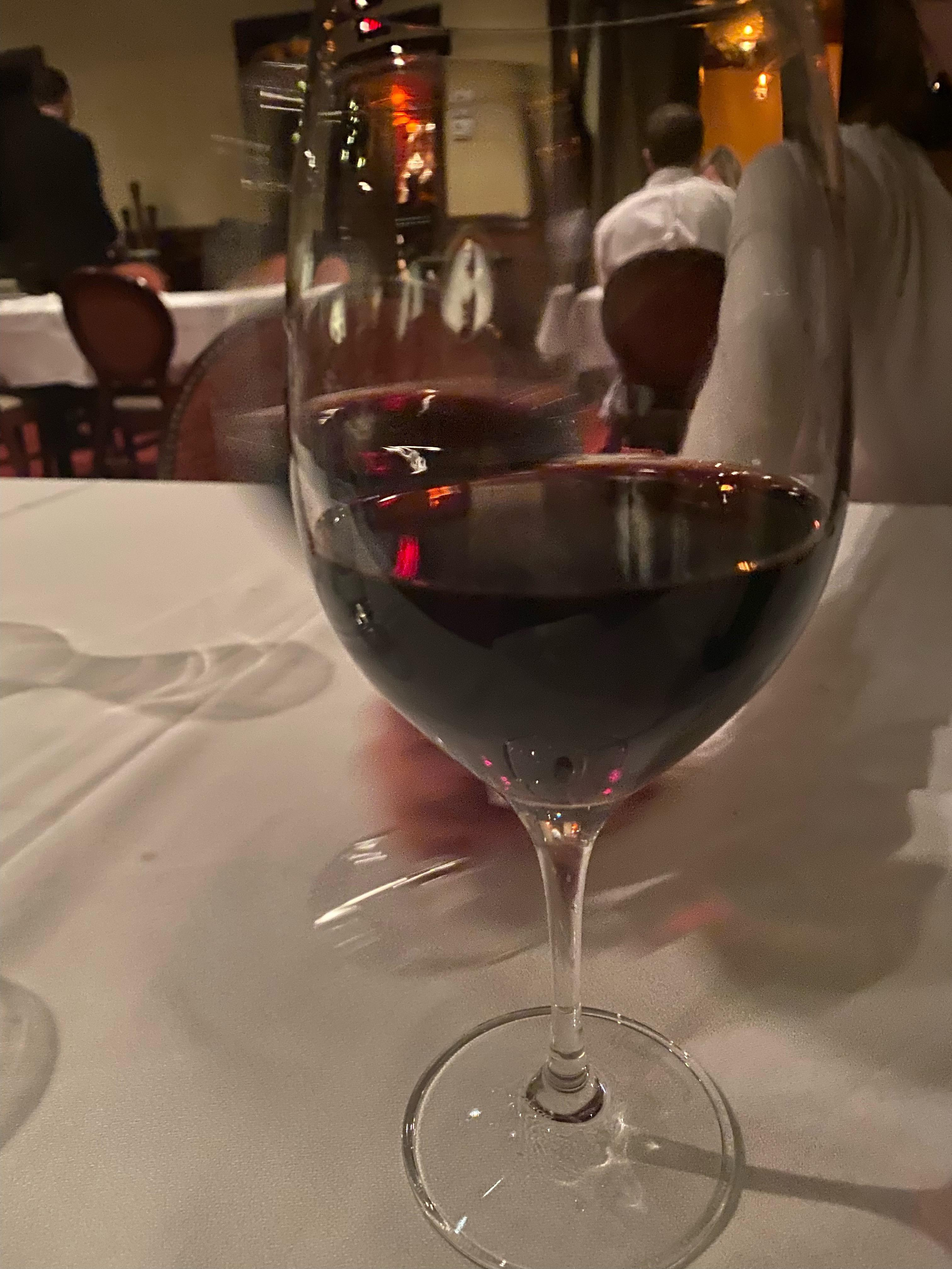glass-wine: (287, 0, 864, 1269)
